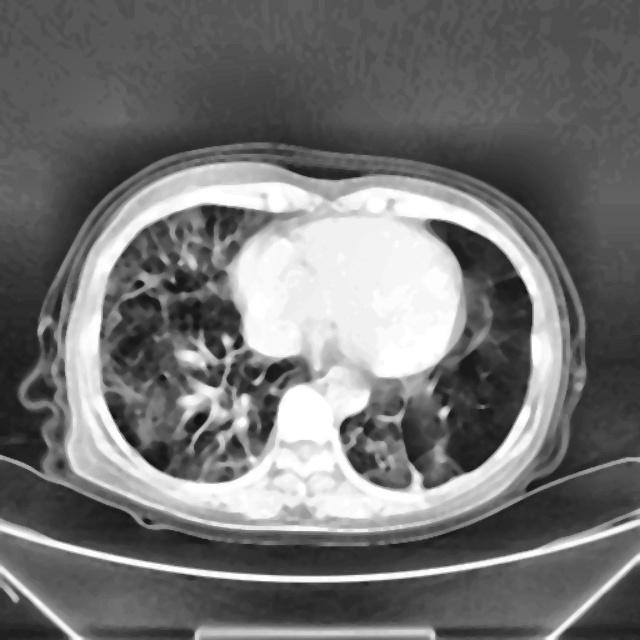covid: (19, 141, 588, 546)
